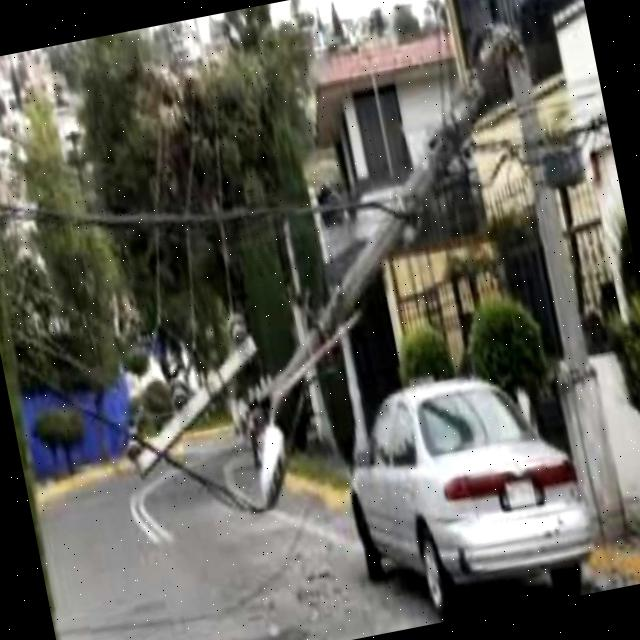Broken Pole: (119, 13, 630, 531)
